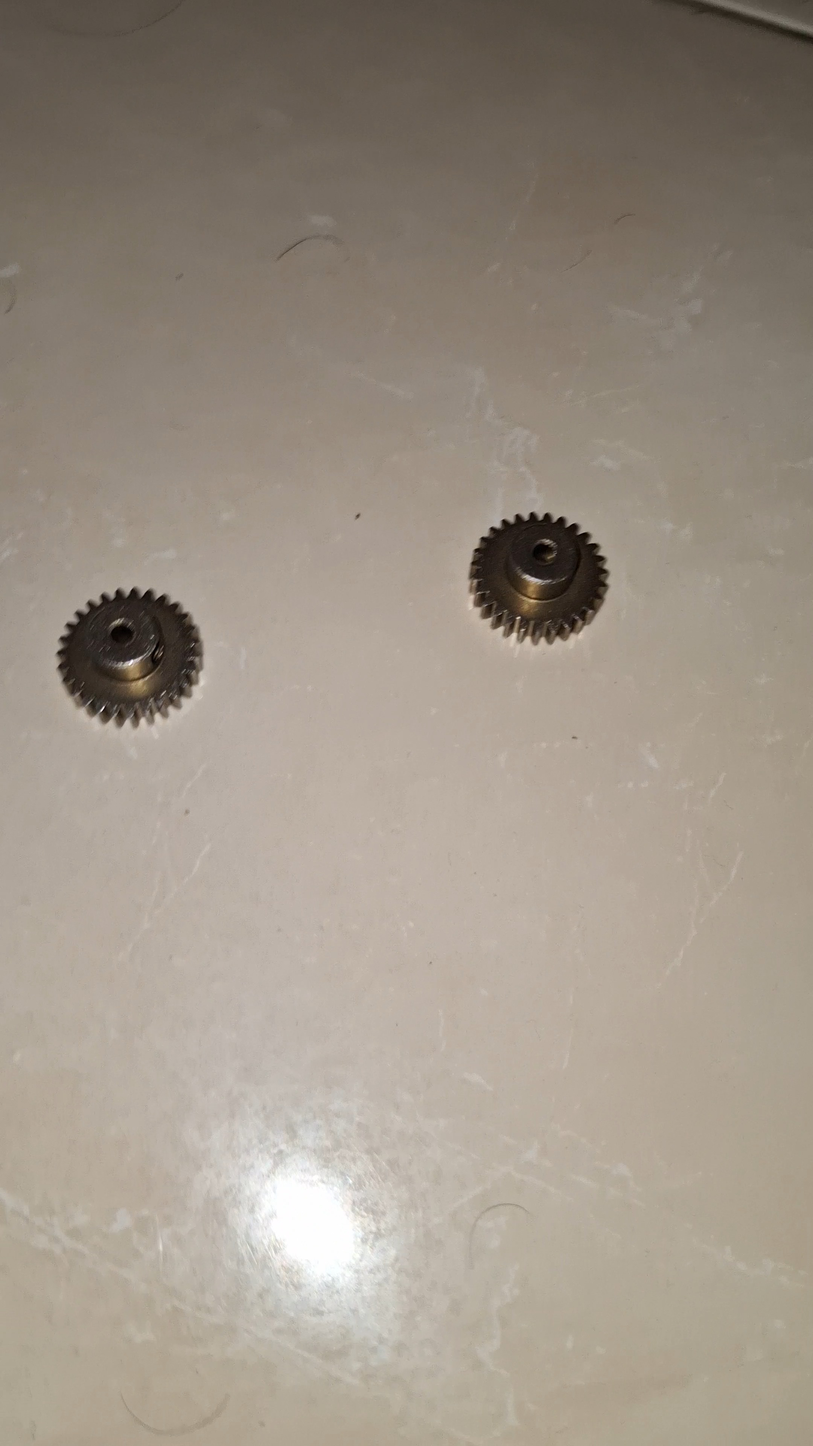spur gear: (59, 585, 201, 721), (472, 522, 609, 653)
